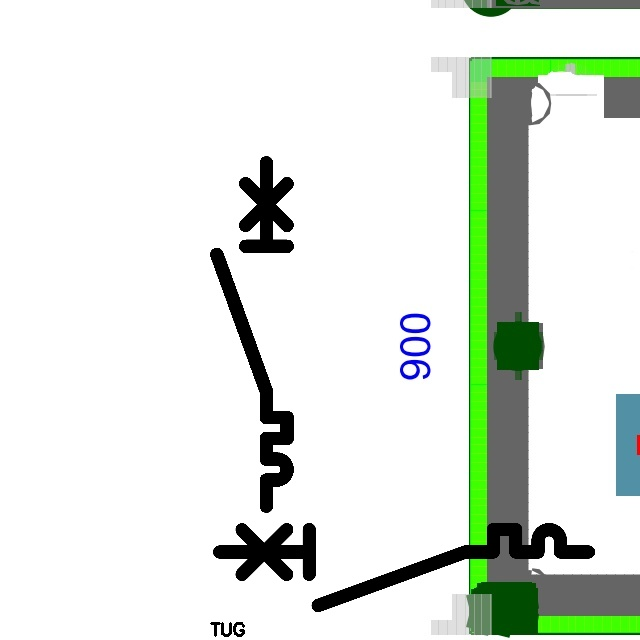interruptor_termomagnetico: (210, 520, 598, 615), (208, 154, 296, 515)
